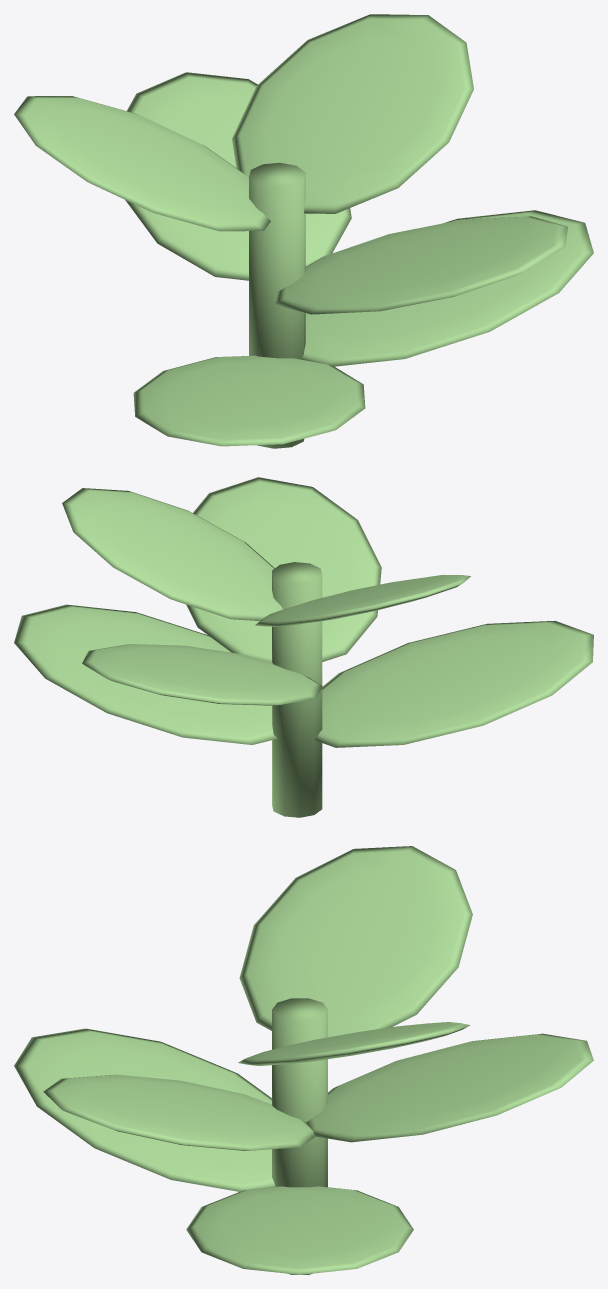
The model's file is VCrop_Potato_3.fbx.
3 renders of one model, top to bottom at view 1: azimuth 30°, elevation 25°; view 2: azimuth 150°, elevation 25°; view 3: azimuth 270°, elevation 25°, orthographic. The views are drawn at different scales.
Visible parts, largest first — view 1: VCrop_Potato_3; view 2: VCrop_Potato_3; view 3: VCrop_Potato_3.
Boxes of the visible parts, x1,y1,x2,y2 form: VCrop_Potato_3: (14, 14, 593, 448); VCrop_Potato_3: (14, 477, 593, 817); VCrop_Potato_3: (14, 846, 593, 1274).
Bounding box in the file's own units: 0.3379 × 0.2017 × 0.331.
